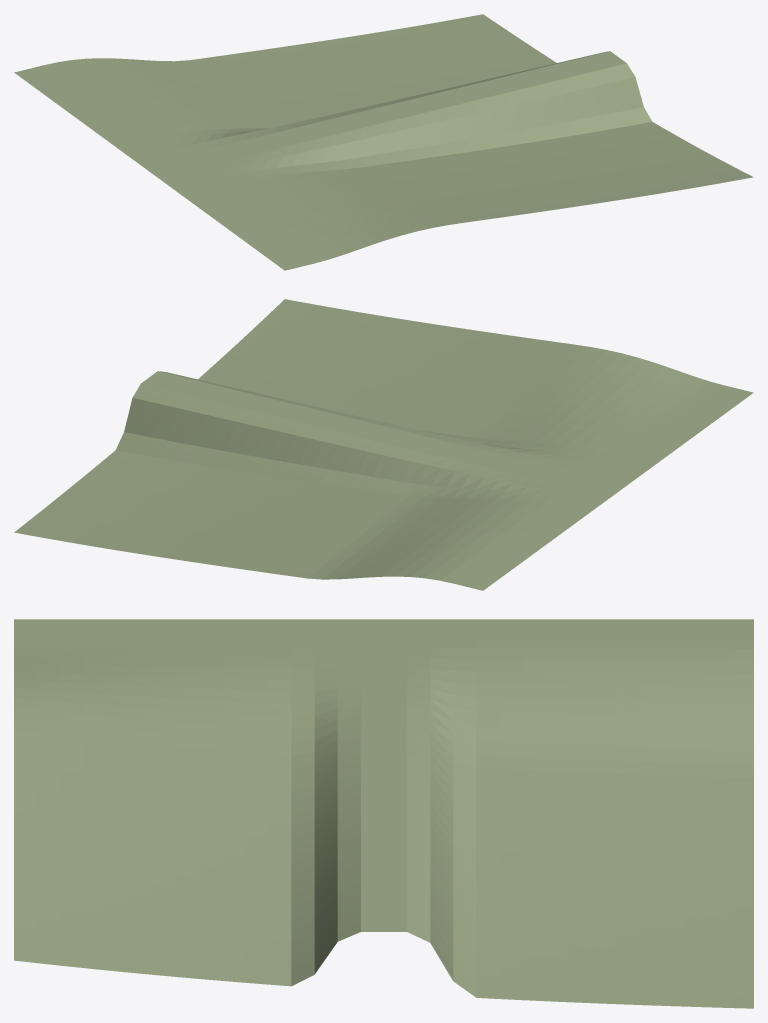
The model's file is valley-3-12.glb.
The picture shows the model from 3 angles, top to bottom: view 1: azimuth 30°, elevation 25°; view 2: azimuth 150°, elevation 25°; view 3: azimuth 270°, elevation 25°; orthographic projection. The views are drawn at different scales.
Parts seen in each view (by area): view 1: valley-3-12; view 2: valley-3-12; view 3: valley-3-12.
Boxes of the visible parts, x1,y1,x2,y2 form: valley-3-12: (14,14,753,270); valley-3-12: (14,299,753,590); valley-3-12: (14,619,753,1008).
Size of the model in its own units: 256 by 32.98 by 256.
